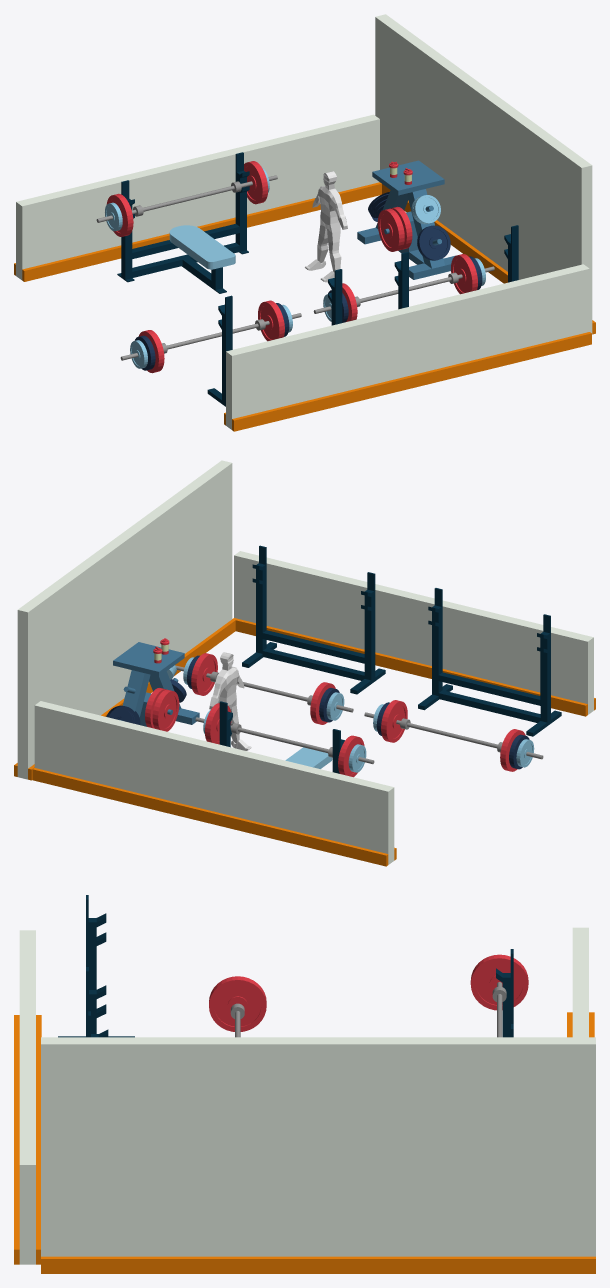
File: Room 2 deneme (1).fbx
3 renders of one model, top to bottom at view 1: azimuth 30°, elevation 25°; view 2: azimuth 150°, elevation 25°; view 3: azimuth 270°, elevation 25°, orthographic. The views are drawn at different scales.
Visible parts, largest first — view 1: Main Full Wall Tile Lv1, Main Half Wall Tile Lv1.001, Main Half Wall Tile Lv1, Bar, Weight Holder, Bar.002, Weight 1.001, Male_1, Bar Holder.001, Bar Holder; view 2: Main Full Wall Tile Lv1, Main Half Wall Tile Lv1, Main Half Wall Tile Lv1.001, Weight Holder, Bar Holder, Bar Holder.001, Bar, Bar.002, Weight 1.001, Male_1; view 3: Main Full Wall Tile Lv1, Main Half Wall Tile Lv1.001, Bar, Bar.002, Main Half Wall Tile Lv1, Bar Holder.001.
Boxes of the visible parts, x1,y1,x2,y2 form: Main Full Wall Tile Lv1: (375, 14, 595, 334); Main Half Wall Tile Lv1.001: (224, 264, 591, 431); Main Half Wall Tile Lv1: (14, 114, 381, 281); Bar: (96, 152, 277, 293); Weight Holder: (357, 160, 455, 279); Bar.002: (120, 300, 301, 373); Weight 1.001: (313, 254, 494, 322); Male_1: (312, 171, 347, 272); Bar Holder.001: (207, 269, 342, 406); Bar Holder: (394, 225, 518, 309); Main Full Wall Tile Lv1: (14, 460, 235, 780); Main Half Wall Tile Lv1: (32, 701, 396, 866); Main Half Wall Tile Lv1.001: (232, 551, 595, 716); Weight Holder: (106, 638, 199, 731); Bar Holder: (242, 545, 385, 694); Bar Holder.001: (418, 588, 561, 736); Bar: (195, 701, 374, 777); Bar.002: (364, 700, 543, 771); Weight 1.001: (176, 653, 353, 724); Male_1: (209, 652, 244, 742); Main Full Wall Tile Lv1: (41, 1037, 595, 1273); Main Half Wall Tile Lv1.001: (14, 930, 41, 1264); Bar: (470, 949, 528, 1037); Bar.002: (209, 976, 266, 1037); Main Half Wall Tile Lv1: (567, 927, 594, 1037); Bar Holder.001: (58, 895, 134, 1037).
Size of the model in its own units: 1121 by 453 by 1049.
